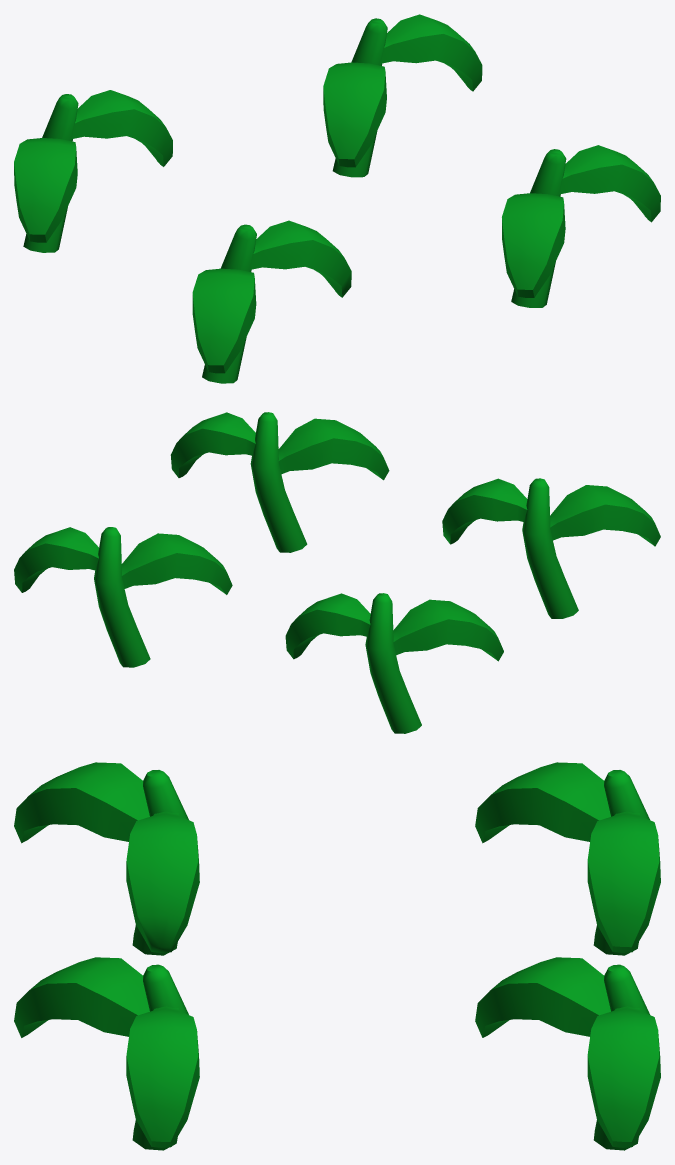
Rendered from Farm_Crop_Capsicum_Step_01.fbx.
3 renders of one model, top to bottom at view 1: azimuth 30°, elevation 25°; view 2: azimuth 150°, elevation 25°; view 3: azimuth 270°, elevation 25°, orthographic. The views are drawn at different scales.
Parts seen in each view (by area): view 1: Farm_Crop_Capsicum_Step_01; view 2: Farm_Crop_Capsicum_Step_01; view 3: Farm_Crop_Capsicum_Step_01.
Part boxes in pixels (box(x1,y1,x2,y2)): Farm_Crop_Capsicum_Step_01: box(14, 14, 660, 383); Farm_Crop_Capsicum_Step_01: box(14, 412, 660, 733); Farm_Crop_Capsicum_Step_01: box(14, 762, 660, 1150).
Bounding box in the file's own units: 163 × 45.68 × 140.
